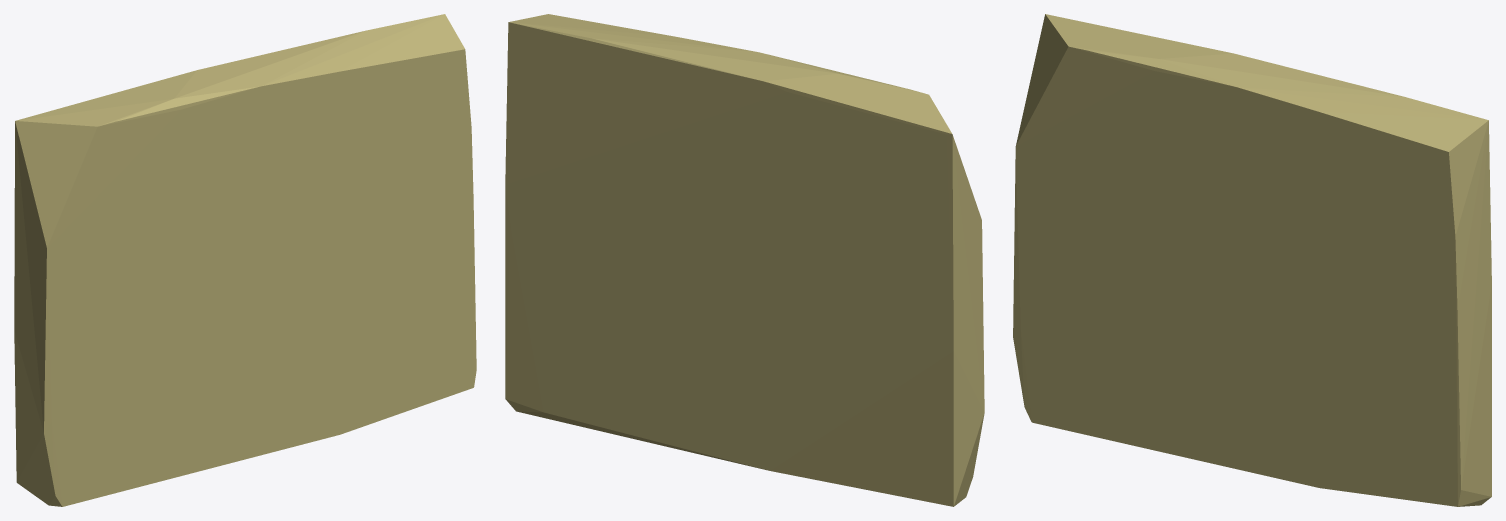
The model's file is pallet_rackable_blue_a01.glb.
3 views of the same model, side by side, from view 1: azimuth 30°, elevation 25°; view 2: azimuth 150°, elevation 25°; view 3: azimuth 330°, elevation 25° (orthographic). The views are drawn at different scales.
Parts seen in each view (by area): view 1: geometry_0; view 2: geometry_0; view 3: geometry_0.
Boxes of the visible parts, x1,y1,x2,y2 form: geometry_0: (14, 14, 476, 506); geometry_0: (505, 14, 984, 506); geometry_0: (1013, 14, 1491, 506).
Bounding box in the file's own units: 0.48 × 0.4011 × 0.0581.
